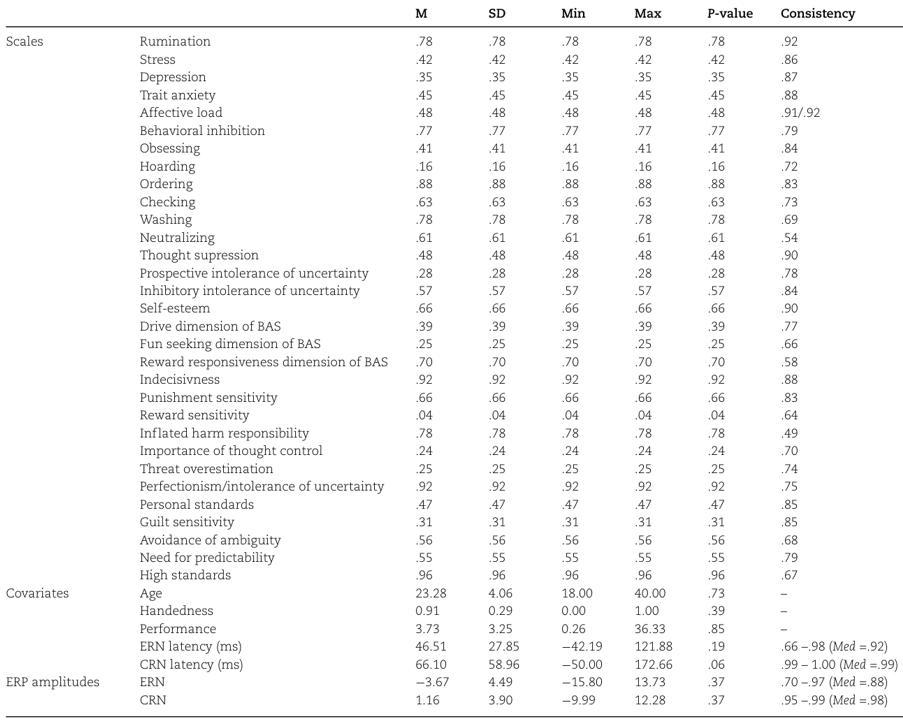table: (5, 5, 897, 715)
table column: (119, 5, 401, 715), (766, 5, 897, 715), (5, 5, 119, 715), (539, 5, 617, 715), (689, 5, 766, 715), (617, 5, 689, 715), (468, 5, 539, 715), (401, 5, 468, 715)
table column header: (5, 5, 897, 26)
table row: (5, 26, 897, 50), (5, 637, 897, 659), (5, 5, 897, 26), (5, 694, 897, 715), (5, 67, 897, 85), (5, 85, 897, 103), (5, 103, 897, 121), (5, 121, 897, 139), (5, 156, 897, 174), (5, 174, 897, 192), (5, 192, 897, 210), (5, 227, 897, 245), (5, 245, 897, 263), (5, 263, 897, 281), (5, 281, 897, 299), (5, 316, 897, 334), (5, 334, 897, 352), (5, 352, 897, 370), (5, 370, 897, 388), (5, 405, 897, 423), (5, 423, 897, 441), (5, 441, 897, 459), (5, 459, 897, 477), (5, 494, 897, 512), (5, 512, 897, 530), (5, 530, 897, 548), (5, 548, 897, 566), (5, 583, 897, 601), (5, 601, 897, 619), (5, 619, 897, 637), (5, 659, 897, 677), (5, 50, 897, 67), (5, 139, 897, 156), (5, 210, 897, 227), (5, 299, 897, 316), (5, 388, 897, 405), (5, 477, 897, 494), (5, 566, 897, 583), (5, 677, 897, 694)
table spanning cell: (5, 26, 119, 583), (5, 583, 119, 677), (5, 677, 119, 715)
